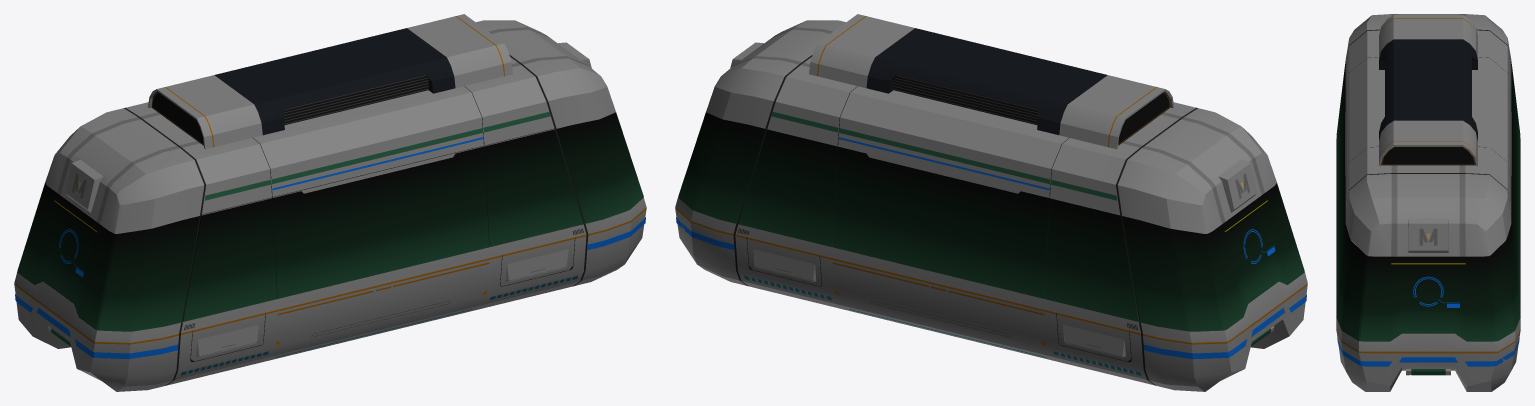
Rendered from W_O_Monorail_001_L1.fbx.
The picture shows the model from 3 angles, left to right: view 1: azimuth 30°, elevation 25°; view 2: azimuth 150°, elevation 25°; view 3: azimuth 270°, elevation 25°; orthographic projection. The views are drawn at different scales.
Parts seen in each view (by area): view 1: W_O_Monorail_001_L1; view 2: W_O_Monorail_001_L1; view 3: W_O_Monorail_001_L1.
Part boxes in pixels (box(x1,y1,x2,y2)): W_O_Monorail_001_L1: box(14, 14, 646, 391); W_O_Monorail_001_L1: box(675, 14, 1307, 391); W_O_Monorail_001_L1: box(1336, 14, 1520, 391).
Size of the model in its own units: 12.01 by 5 by 4.01.
